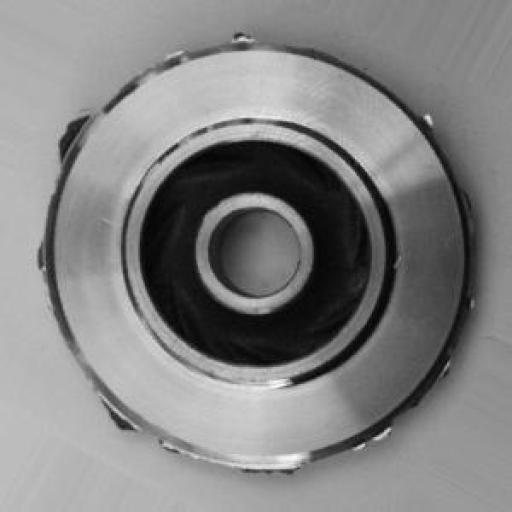defect: (25, 26, 495, 479)
